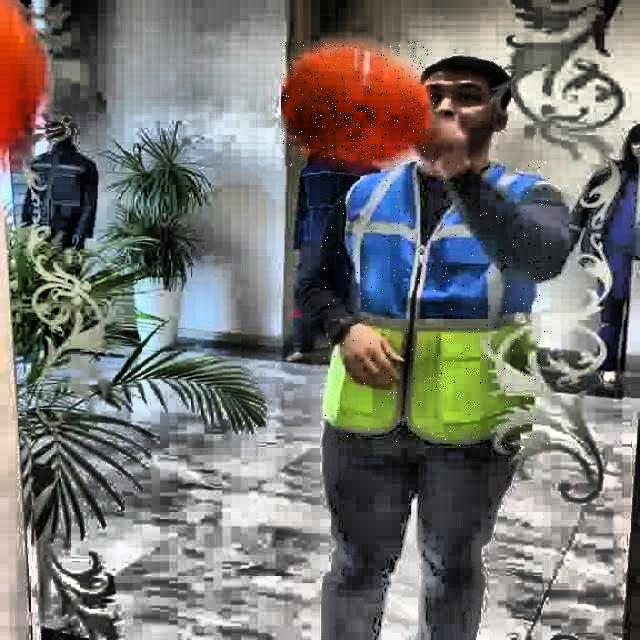safety_helmet: (282, 42, 436, 166)
safety_jacket: (322, 162, 552, 448)
